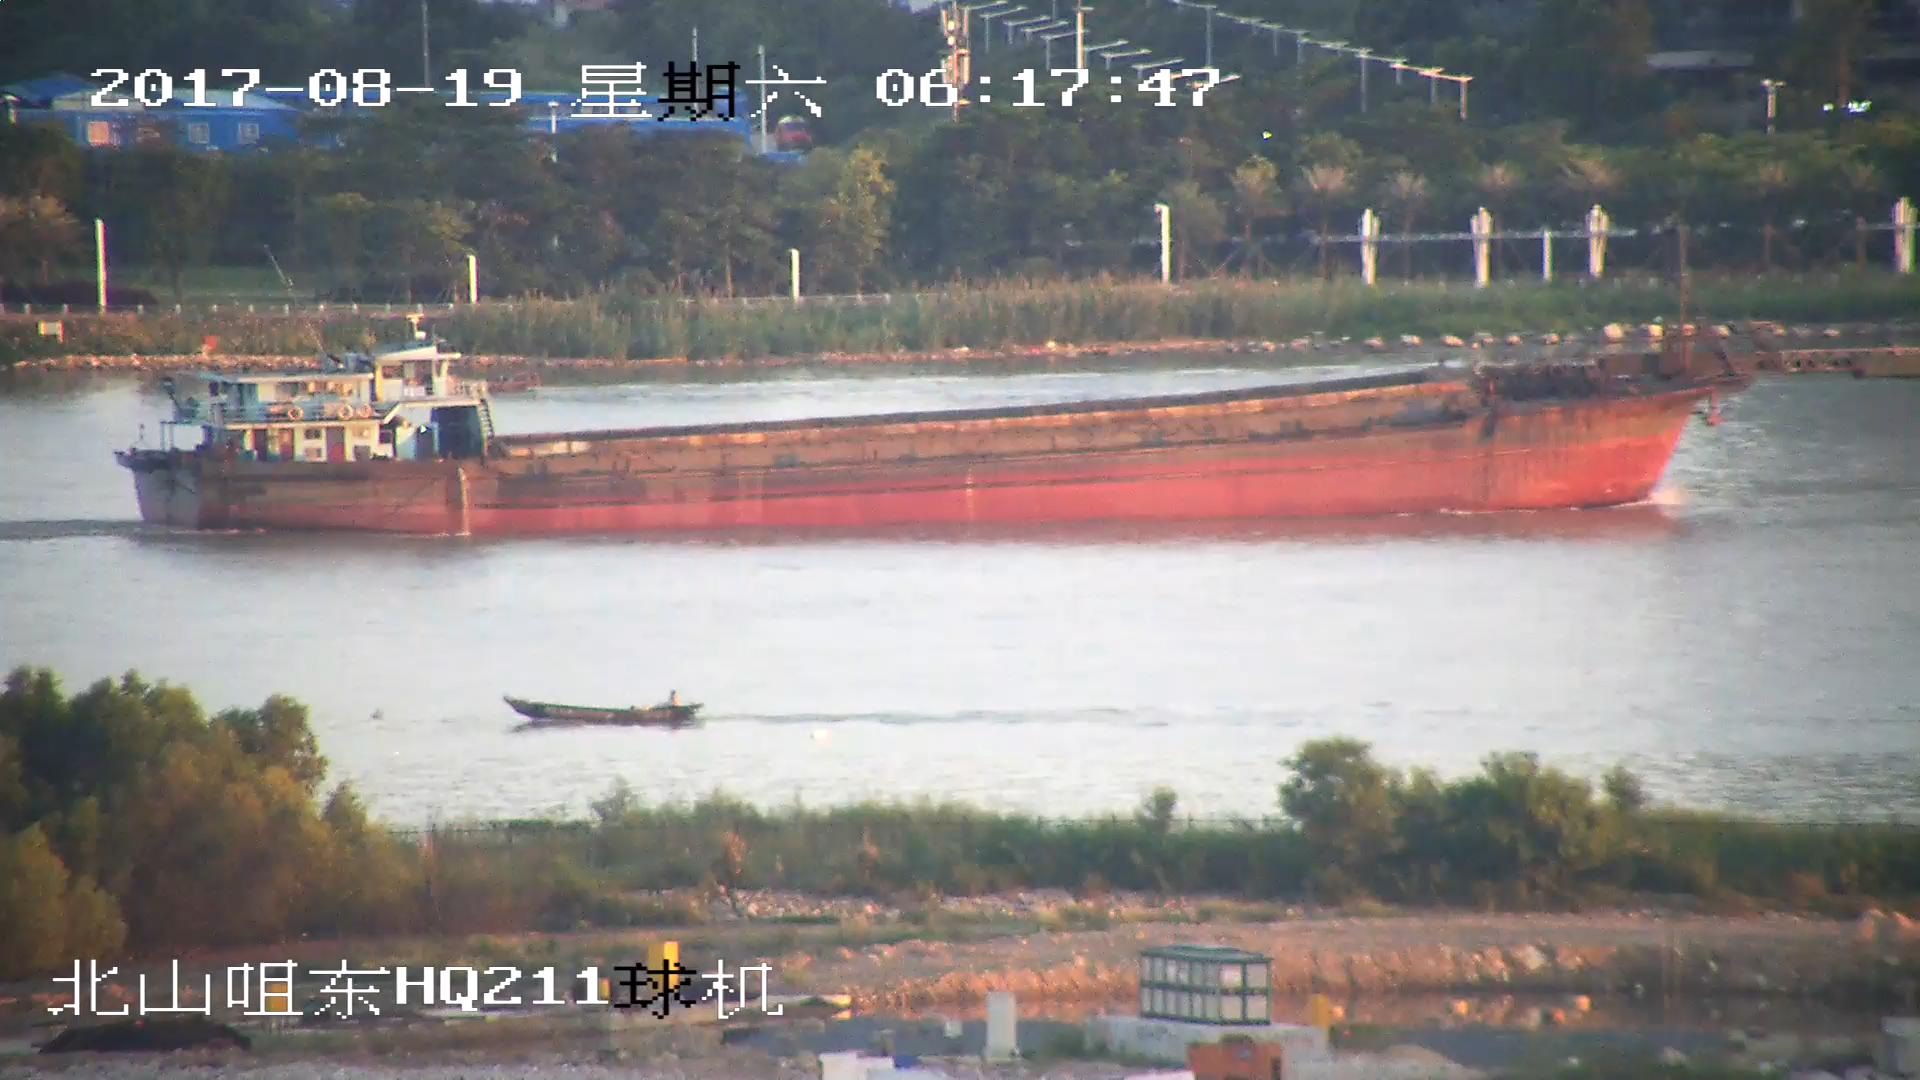bulk cargo carrier: (106, 220, 1920, 544)
fishing boat: (497, 690, 703, 726)
